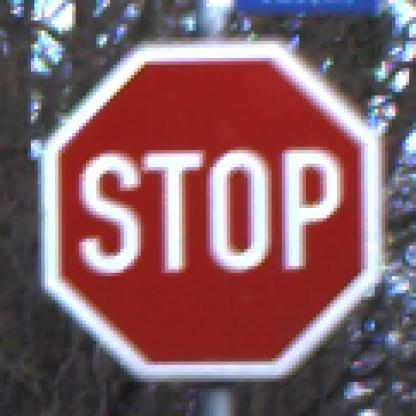stop: (36, 36, 396, 384)
